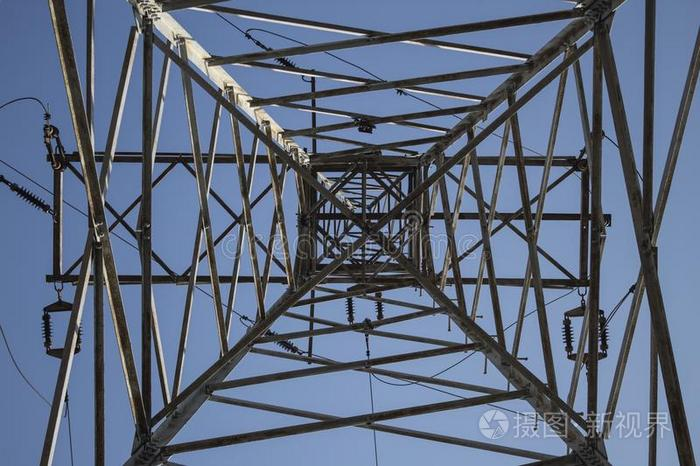insulator: (15, 184, 52, 214), (37, 317, 57, 342), (559, 322, 577, 345), (596, 322, 614, 345), (343, 297, 358, 316)
